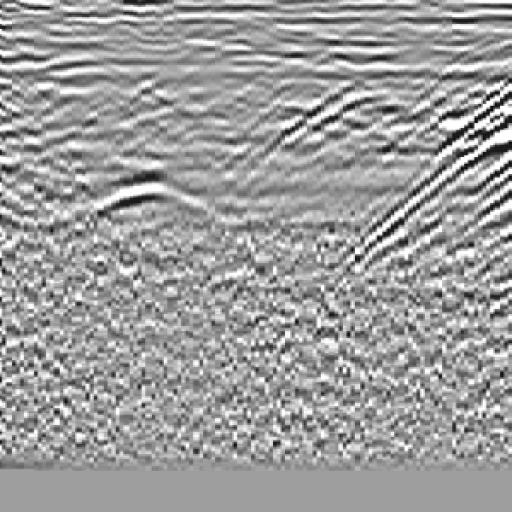metalic: (55, 124, 238, 269)
nonmetalic: (363, 52, 512, 278)
